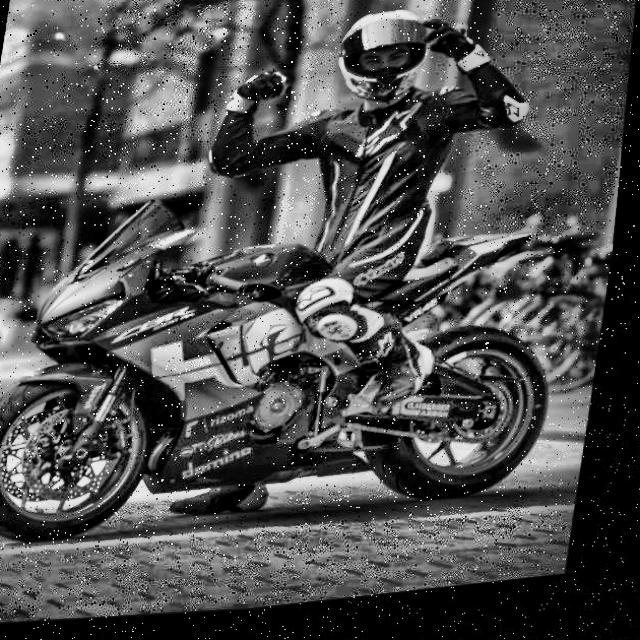Helmet: (328, 10, 442, 122)
